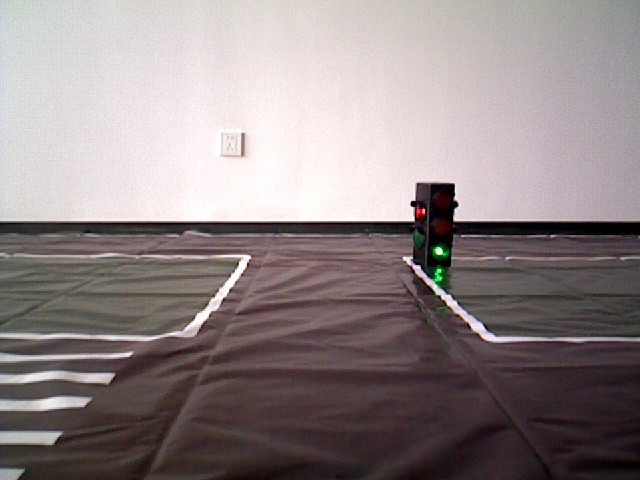green: (413, 184, 447, 260)
